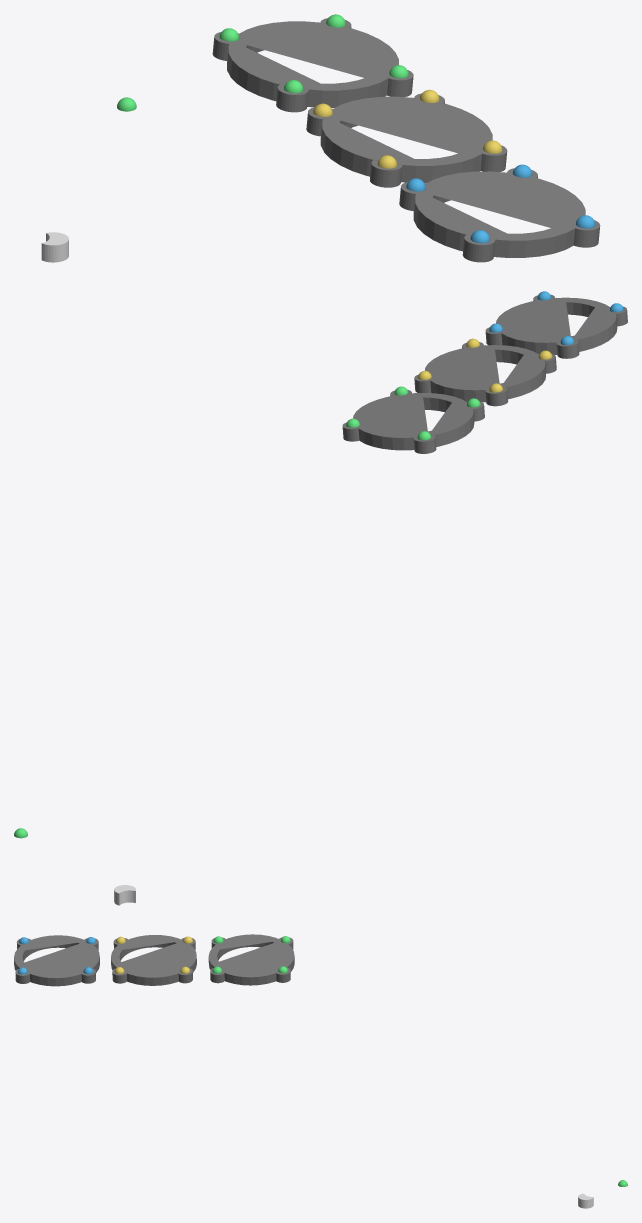
The model's file is Transformery.fbx.
3 views of the same model, one above another, from view 1: azimuth 30°, elevation 25°; view 2: azimuth 150°, elevation 25°; view 3: azimuth 270°, elevation 25° (orthographic). The views are drawn at different scales.
Visible parts, largest first — view 1: Transformer_Kamień.002, Transformer_Kamień, Transformer_Kamień.001, Transformer_Część_Ogólna; view 2: Transformer_Kamień, Transformer_Kamień.001, Transformer_Kamień.002; view 3: Transformer_Kamień, Transformer_Kamień.001, Transformer_Kamień.002.
Boxes of the visible parts, x1,y1,x2,y2 form: Transformer_Kamień.002: [399, 164, 600, 262]; Transformer_Kamień: [212, 14, 413, 112]; Transformer_Kamień.001: [306, 89, 507, 187]; Transformer_Część_Ogólna: [41, 232, 68, 262]; Transformer_Kamień: [342, 386, 484, 453]; Transformer_Kamień.001: [414, 338, 556, 406]; Transformer_Kamień.002: [485, 291, 627, 358]; Transformer_Kamień: [208, 934, 294, 985]; Transformer_Kamień.001: [111, 935, 196, 985]; Transformer_Kamień.002: [14, 935, 99, 986].
Size of the model in its own units: 372 by 613 by 1430.
